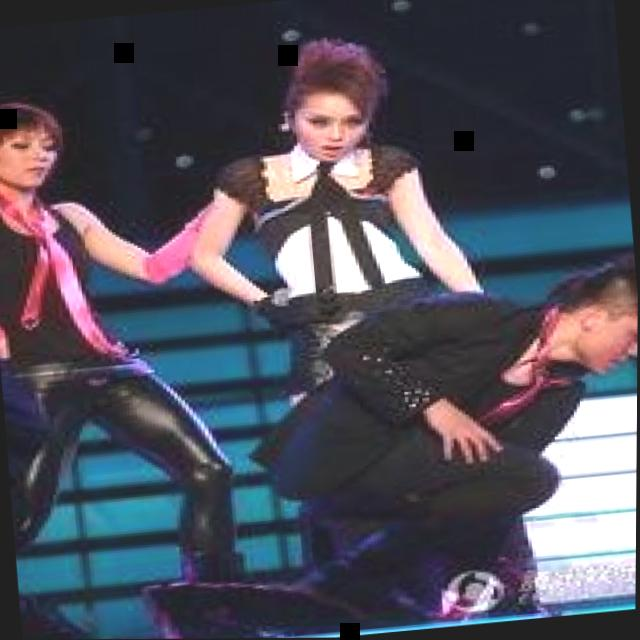Fall-Detected: (190, 242, 639, 639)
